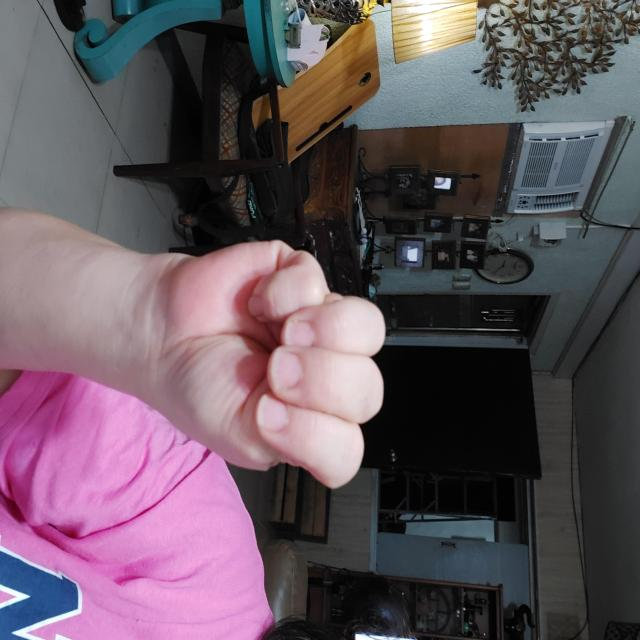M: (240, 254, 490, 485)
